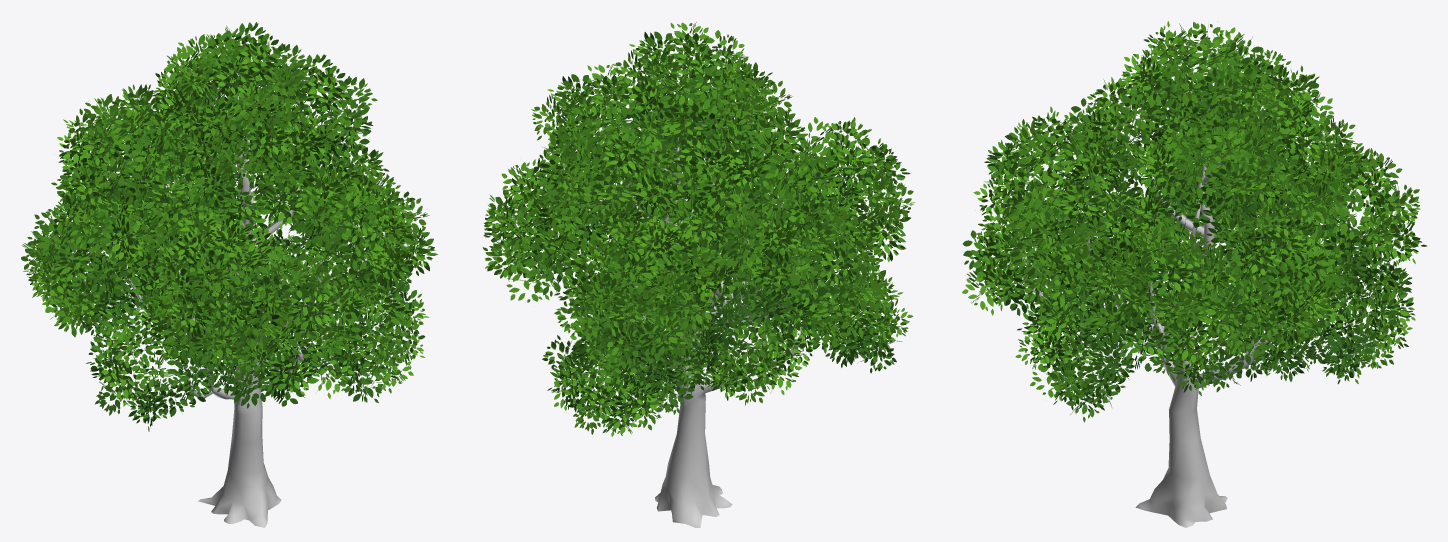
File: Cam_FSS_tree_002.FBX
The picture shows the model from 3 angles, left to right: view 1: azimuth 30°, elevation 25°; view 2: azimuth 150°, elevation 25°; view 3: azimuth 270°, elevation 25°; orthographic projection.
Parts seen in each view (by area): view 1: leaves_002, trunk_002; view 2: leaves_002, trunk_002; view 3: leaves_002, trunk_002.
Part boxes in pixels (bbox=[...]): leaves_002: bbox=[21, 22, 437, 431]; trunk_002: bbox=[126, 132, 366, 527]; leaves_002: bbox=[482, 22, 915, 436]; trunk_002: bbox=[595, 137, 800, 527]; leaves_002: bbox=[962, 21, 1426, 422]; trunk_002: bbox=[1023, 146, 1279, 527].
Size of the model in its own units: 407 by 494 by 441.
